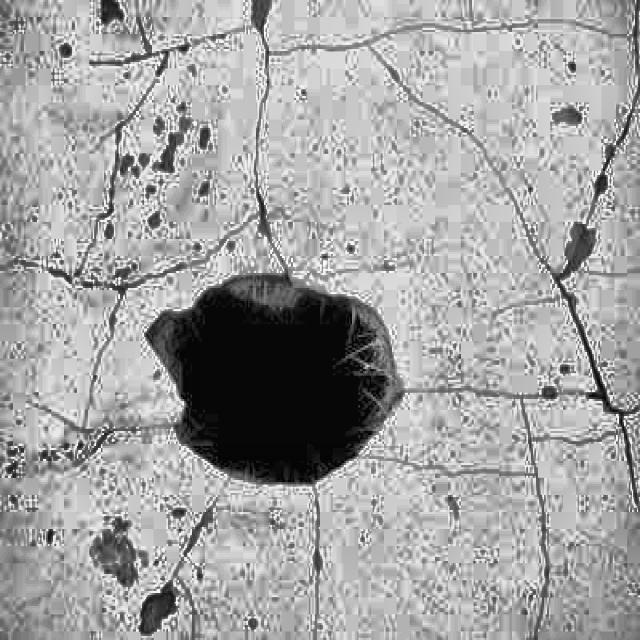pothole: (125, 262, 411, 504)
